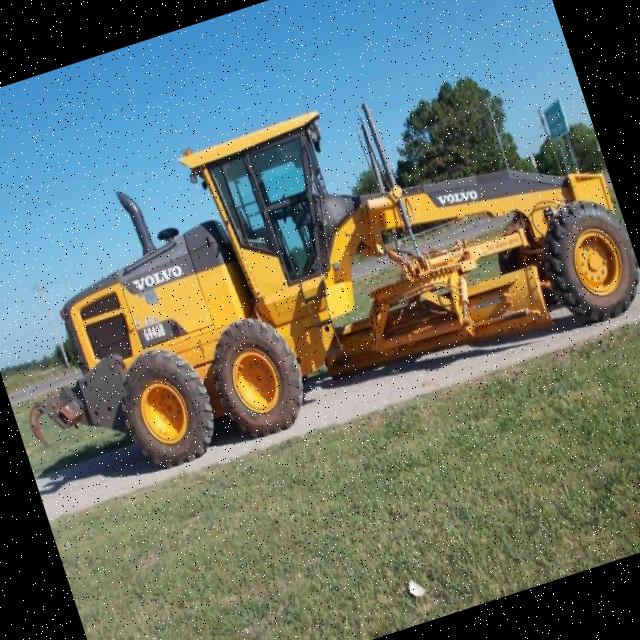Grader: (1, 13, 640, 491)
